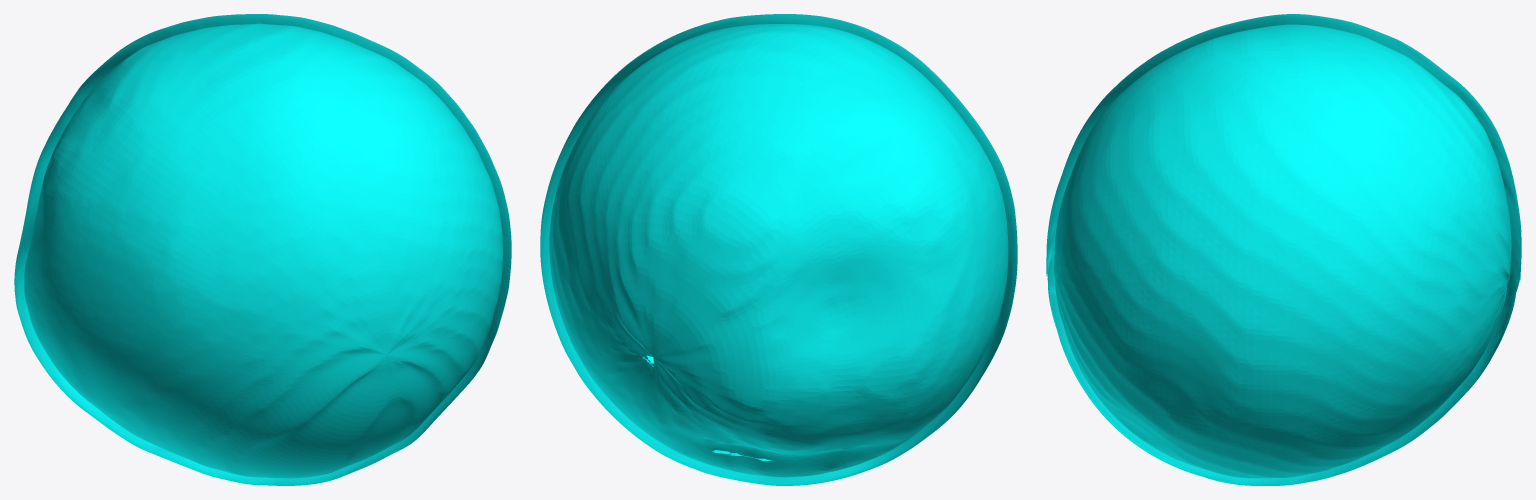
3 renders of one model, left to right at view 1: azimuth 30°, elevation 25°; view 2: azimuth 150°, elevation 25°; view 3: azimuth 270°, elevation 25°, orthographic.
Parts seen in each view (by area): view 1: Renderer Node; view 2: Renderer Node; view 3: Renderer Node.
Boxes of the visible parts, bbox=[...] form: Renderer Node: bbox=[14, 14, 511, 485]; Renderer Node: bbox=[540, 14, 1017, 485]; Renderer Node: bbox=[1046, 14, 1521, 485].
Bounding box in the file's own units: 5.8e+14 × 5.53e+14 × 5.66e+14.
